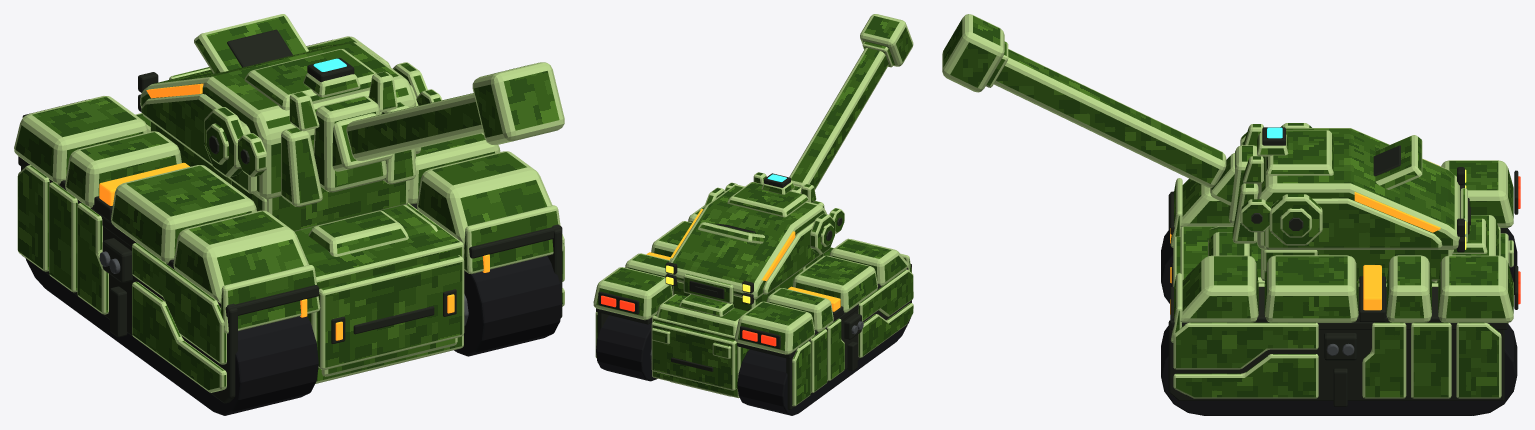
Rendered from tank.glb.
3 renders of one model, left to right at view 1: azimuth 30°, elevation 25°; view 2: azimuth 150°, elevation 25°; view 3: azimuth 270°, elevation 25°, orthographic. The views are drawn at different scales.
Visible parts, largest first — view 1: TankHull, TankTurret, TankBarrel; view 2: TankHull, TankTurret, TankBarrel; view 3: TankHull, TankTurret, TankBarrel.
Boxes of the visible parts, x1,y1,x2,y2 form: TankHull: (14, 36, 564, 415); TankTurret: (138, 14, 442, 231); TankBarrel: (332, 62, 564, 171); TankHull: (593, 205, 913, 415); TankTurret: (665, 172, 844, 311); TankBarrel: (789, 14, 913, 189); TankHull: (1161, 160, 1520, 415); TankTurret: (1228, 123, 1470, 281); TankBarrel: (942, 14, 1234, 205).
Bounding box in the file's own units: 4.3 × 4.92 × 7.4.
12 materials, 1 textured.
